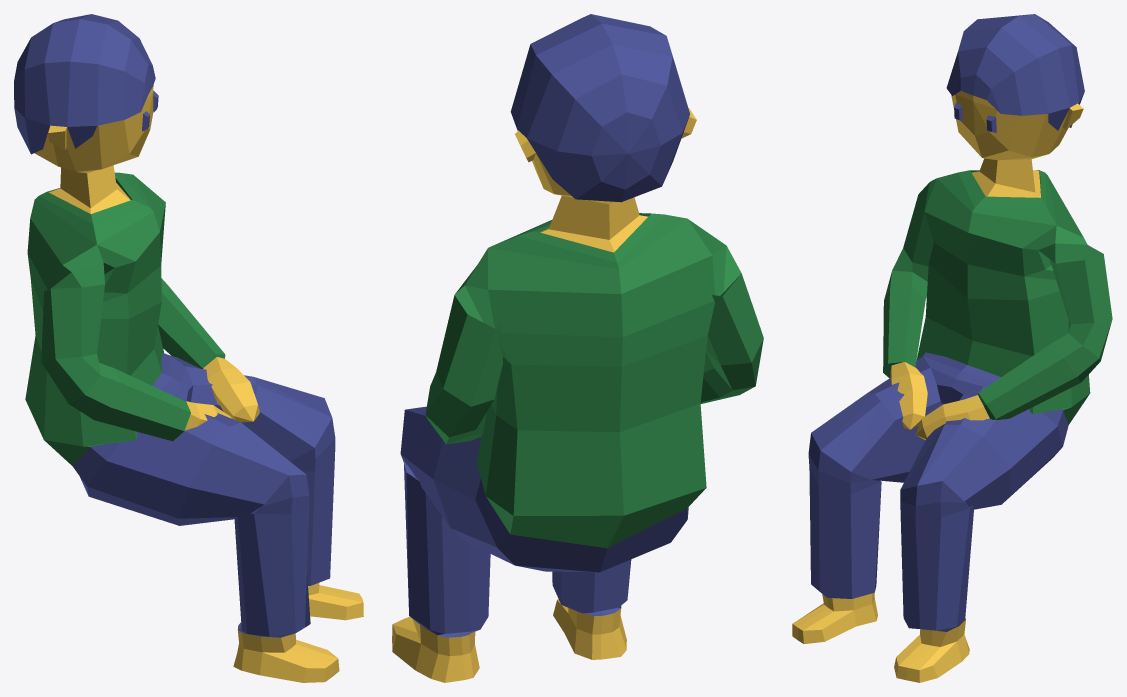
Rendered from 086_聞き手(Man).glb.
3 renders of one model, left to right at view 1: azimuth 30°, elevation 25°; view 2: azimuth 150°, elevation 25°; view 3: azimuth 270°, elevation 25°, orthographic. The views are drawn at different scales.
Visible parts, largest first — view 1: 立方体011_3, 立方体011_2, 立方体011_1, 立方体011; view 2: 立方体011_3, 立方体011, 立方体011_2, 立方体011_1; view 3: 立方体011_3, 立方体011_2, 立方体011_1, 立方体011.
Boxes of the visible parts, x1,y1,x2,y2 form: 立方体011_3: (25,172,225,466); 立方体011_2: (73,353,335,637); 立方体011_1: (34,85,363,682); 立方体011: (14,14,158,154); 立方体011_3: (425,213,763,548); 立方体011: (510,14,689,202); 立方体011_2: (400,406,688,637); 立方体011_1: (392,108,696,682); 立方体011_3: (883,170,1112,424); 立方体011_2: (808,352,1068,631); 立方体011_1: (792,91,1083,682); 立方体011: (946,14,1084,132).
Bounding box in the file's own units: 0.8779 × 1.65 × 0.8486.
